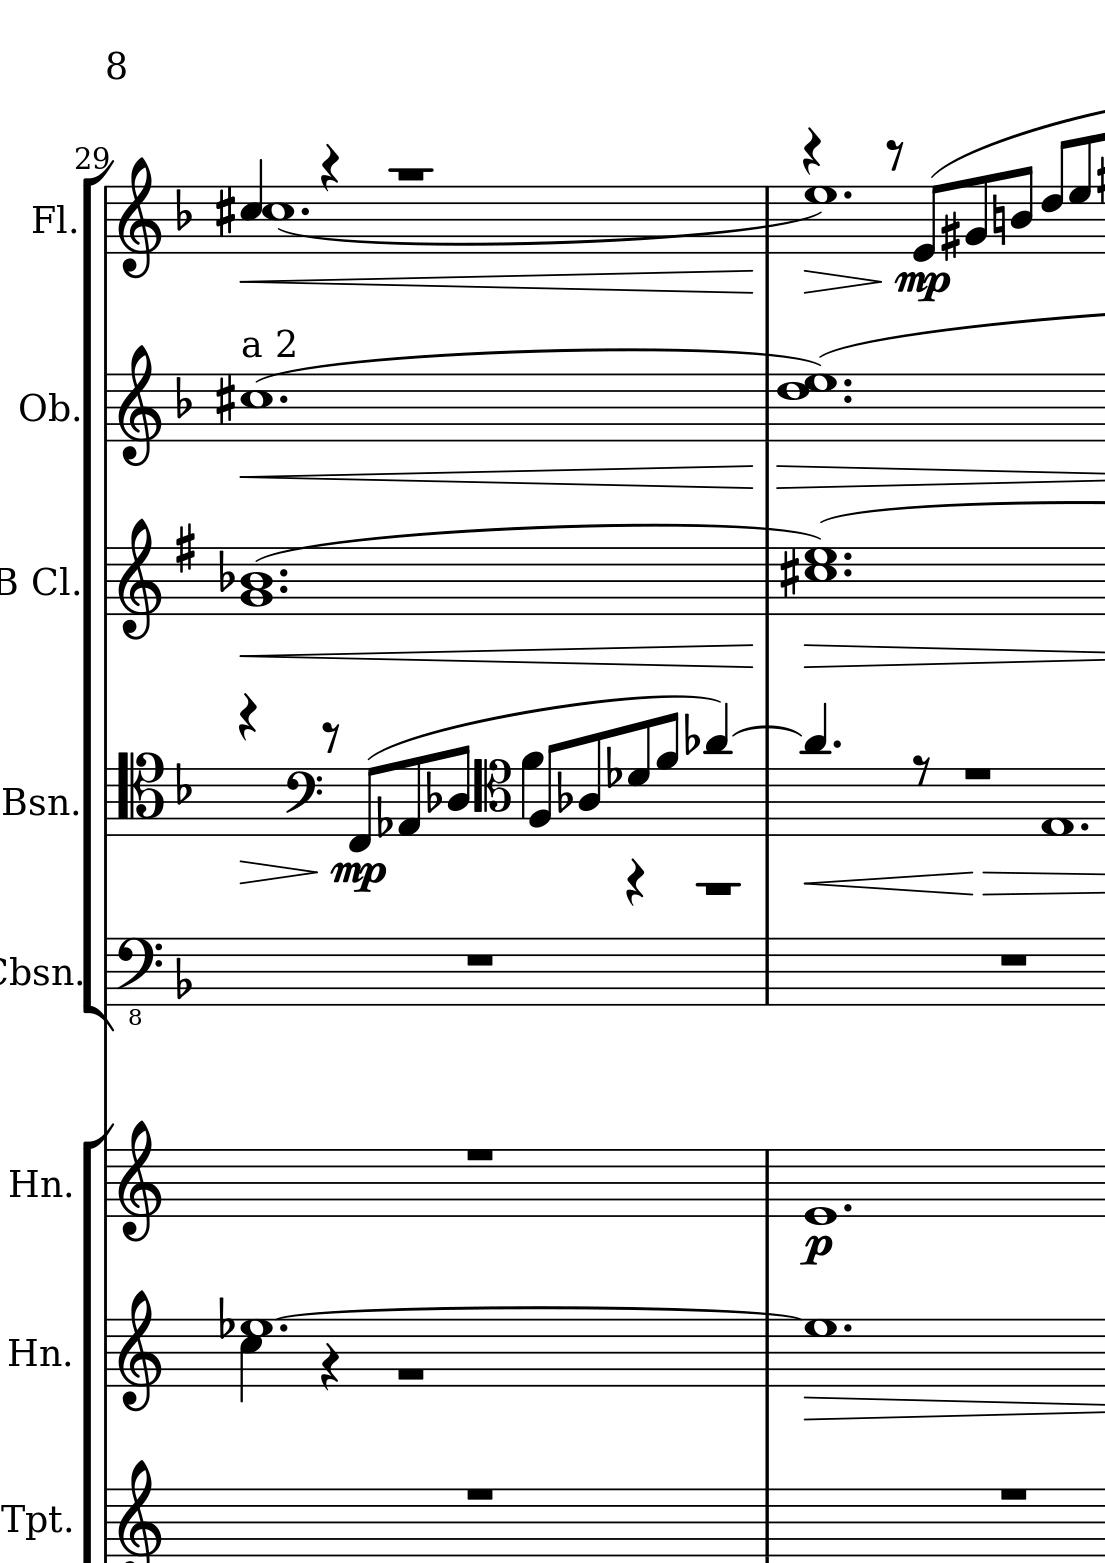1_0: (802, 1144, 837, 1226)
1_1: (1039, 765, 1074, 839)
1_2_4: (237, 545, 275, 617)
1_5: (239, 372, 274, 444)
1_5_7: (802, 547, 840, 617)
1_6_7: (776, 370, 841, 444)
1_7: (801, 1318, 838, 1388), (802, 183, 836, 256)
2: (72, 145, 91, 171)
4_11: (799, 701, 829, 841), (706, 703, 729, 838)
8: (104, 49, 127, 83)
8_-1: (346, 765, 377, 851)
8_0: (910, 181, 944, 263)
8_1: (395, 755, 422, 838)
8_2: (961, 175, 988, 255)
8_4: (445, 741, 470, 838), (1009, 164, 1034, 255)
8_6: (1040, 138, 1072, 257), (576, 734, 602, 839)
8_7: (625, 719, 651, 837), (1067, 138, 1091, 256)
8_9: (654, 714, 679, 838)
9: (91, 144, 109, 169)
Bracke: (79, 1109, 115, 1559)
Bsn: (1, 779, 69, 825)
Cl: (30, 558, 73, 603)
Crescendo_hairpin: (238, 464, 753, 492), (242, 643, 752, 670), (805, 871, 973, 897)
Diminuendo_hairpin: (238, 857, 316, 885), (802, 269, 881, 294)
Fclef: (282, 767, 323, 838)
Fl: (28, 201, 69, 240)
Flat: (214, 547, 236, 594), (172, 374, 194, 421), (172, 954, 194, 1001), (173, 761, 193, 808), (172, 187, 193, 231), (216, 1295, 236, 1342), (554, 769, 572, 816), (425, 769, 442, 814), (682, 712, 700, 756), (604, 744, 621, 789), (376, 795, 391, 839)
Gclef: (115, 343, 164, 468), (115, 517, 164, 641), (115, 155, 163, 281), (116, 1288, 163, 1414), (116, 1118, 161, 1243), (116, 1458, 161, 1563)
Hn: (6, 1164, 63, 1204), (5, 1332, 61, 1370)
Lower_Fclef: (114, 935, 164, 1028)
Natural: (991, 193, 1007, 248)
Ob: (16, 385, 72, 431)
Rests1: (387, 163, 433, 187), (697, 879, 740, 899), (460, 1482, 497, 1504), (391, 1362, 429, 1384), (460, 1144, 497, 1166), (995, 1483, 1032, 1504), (995, 950, 1033, 970), (462, 950, 497, 970), (960, 764, 996, 782)
Rests4: (317, 1341, 341, 1392), (318, 142, 341, 194), (623, 857, 645, 908), (237, 691, 257, 743), (801, 126, 822, 175)
Rests8: (883, 138, 906, 170), (909, 752, 932, 786), (319, 720, 342, 752)
Sharp: (172, 521, 199, 575), (212, 184, 236, 239), (212, 371, 236, 426), (776, 547, 800, 599), (939, 210, 959, 264)
Single_barline: (97, 939, 116, 1007), (97, 187, 116, 254), (97, 769, 116, 835), (757, 1150, 776, 1216), (757, 1319, 776, 1385), (98, 374, 116, 441), (758, 548, 776, 615), (758, 769, 776, 836), (758, 938, 776, 1005), (98, 1319, 116, 1386), (98, 548, 116, 613), (758, 1489, 776, 1553), (758, 187, 775, 254), (758, 374, 775, 441), (99, 1149, 116, 1216), (99, 1489, 115, 1555)
Slur: (258, 348, 818, 384), (273, 226, 822, 246), (729, 724, 802, 739)
Tensor_Cclef: (112, 750, 164, 839), (471, 757, 512, 839)
Tpt: (1, 1498, 65, 1541)
dot: (830, 737, 844, 752), (840, 1199, 854, 1214), (840, 188, 854, 201), (841, 376, 854, 390), (276, 392, 289, 407), (841, 393, 855, 407), (841, 550, 855, 563), (276, 566, 289, 579), (841, 1321, 854, 1335), (841, 567, 855, 579), (298, 204, 310, 218), (276, 584, 289, 596), (276, 1323, 289, 1335), (1077, 822, 1089, 834)
mp: (893, 265, 956, 306), (326, 857, 390, 896)
p: (799, 1234, 832, 1266)
